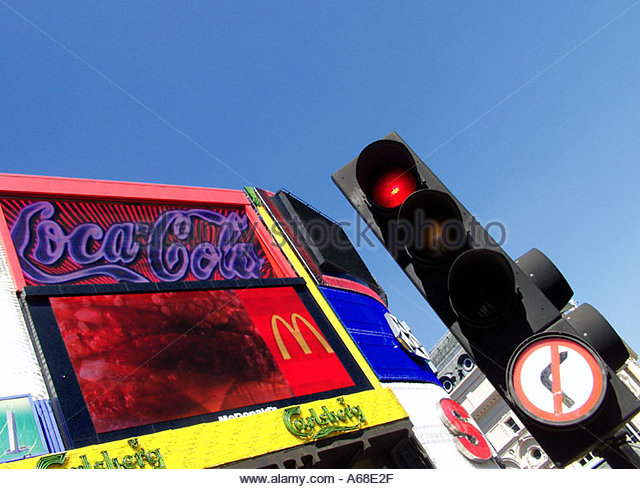No_right_turn: (511, 336, 605, 423)
